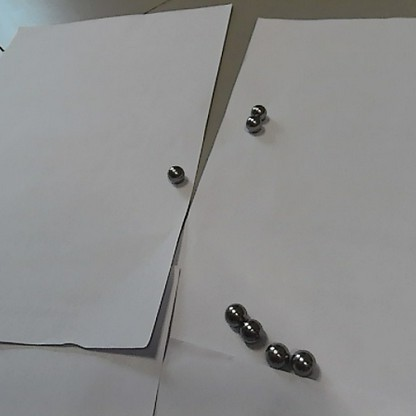ironball: (291, 349, 314, 378), (265, 345, 287, 366), (240, 320, 260, 340), (224, 303, 244, 322), (166, 164, 184, 183), (245, 115, 261, 132), (250, 102, 265, 120)
